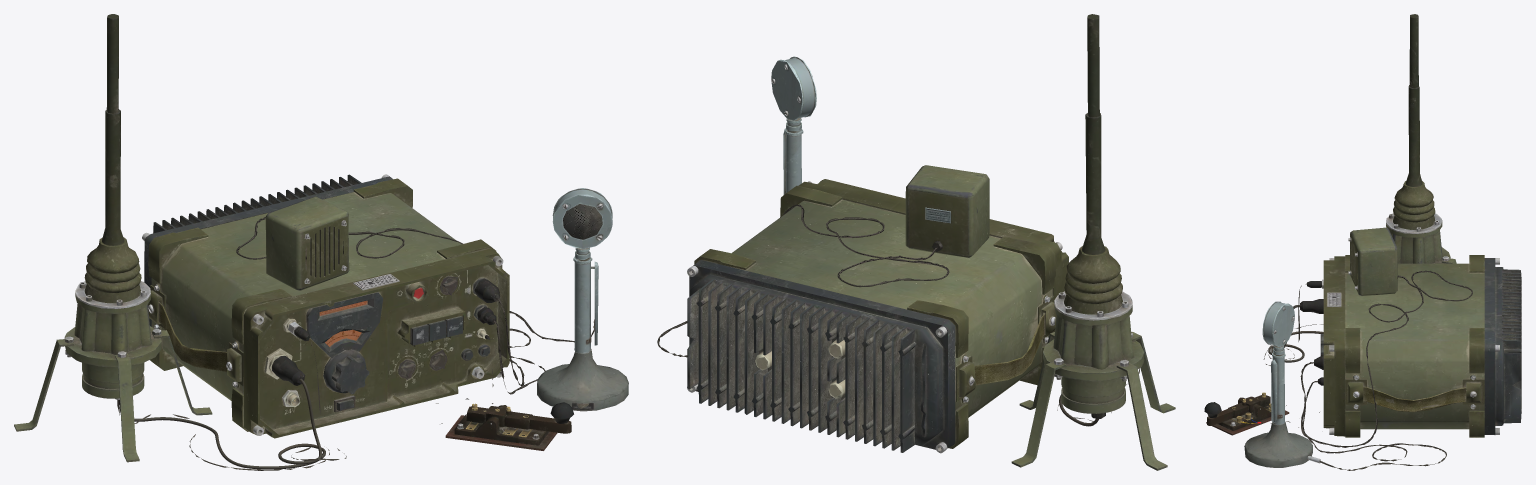
Rendered from vintage_radio_transceiver.glb.
The picture shows the model from 3 angles, left to right: view 1: azimuth 30°, elevation 25°; view 2: azimuth 150°, elevation 25°; view 3: azimuth 270°, elevation 25°; orthographic projection. The views are drawn at different scales.
Visible parts, largest first — view 1: vintage_radio_transceiver, vintage_radio_transceiver_cable; view 2: vintage_radio_transceiver, vintage_radio_transceiver_cable; view 3: vintage_radio_transceiver, vintage_radio_transceiver_cable.
Part boxes in pixels (x1=…): vintage_radio_transceiver: x1=142, y1=174, x2=509, y2=438; vintage_radio_transceiver_cable: x1=14, y1=14, x2=628, y2=470; vintage_radio_transceiver: x1=687, y1=179, x2=1068, y2=453; vintage_radio_transceiver_cable: x1=657, y1=14, x2=1175, y2=470; vintage_radio_transceiver: x1=1320, y1=255, x2=1521, y2=437; vintage_radio_transceiver_cable: x1=1204, y1=14, x2=1472, y2=470.
Bounding box in the file's own units: 0.574 × 0.4344 × 0.4127.
Materials: 2 (2 with a texture image).
